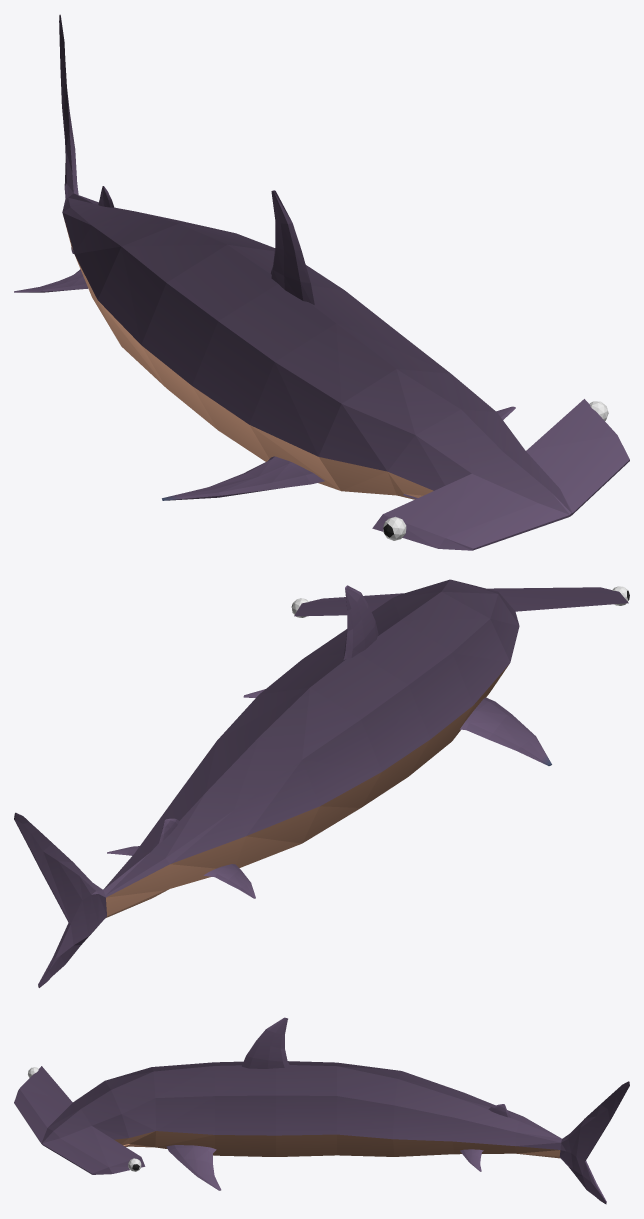
The model's file is hammer_shark.glb.
3 views of the same model, one above another, from view 1: azimuth 30°, elevation 25°; view 2: azimuth 150°, elevation 25°; view 3: azimuth 270°, elevation 25° (orthographic). The views are drawn at different scales.
Parts seen in each view (by area): view 1: hammershark_merged; view 2: hammershark_merged; view 3: hammershark_merged.
Part boxes in pixels (x1,y1,x2,y2): hammershark_merged: (14,14,629,550); hammershark_merged: (14,579,629,987); hammershark_merged: (14,1017,629,1204).
Size of the model in its own units: 3.65 by 2.7 by 9.18.
Materials: 5 (1 with a texture image).
